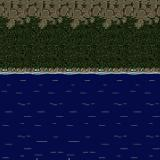Interaction: (0, 55, 160, 83)
Slow: (0, 76, 160, 160)
